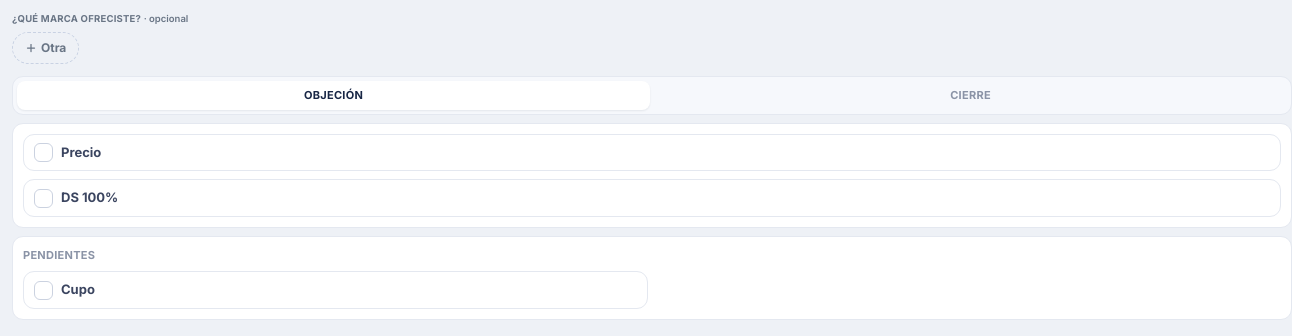
segmentado Objeción / Cierre › tocar Cierre muestra sus motivos y esconde los de Objeción
The width and height of the screenshot is (1292, 336).
Click the button "Cierre": (970, 96) [654,81,1287,110]
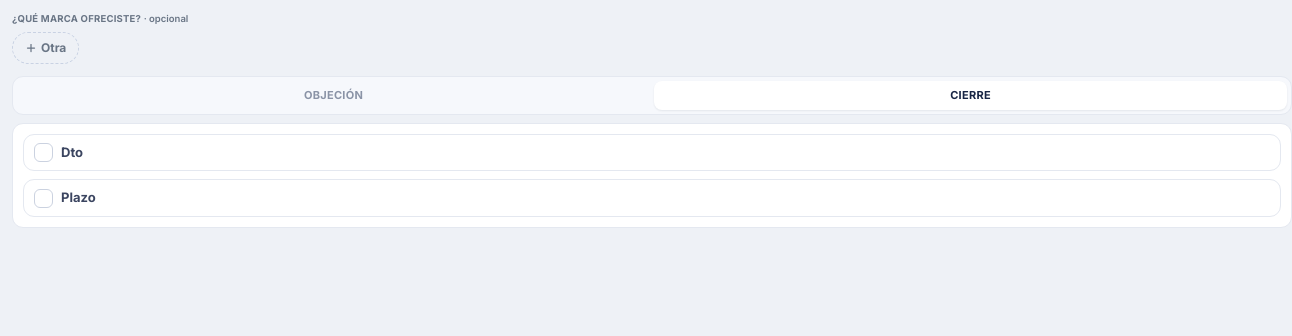
Now the text "Dto" is shown, box [61,143,83,162]
Now the button "Precio" is gone
